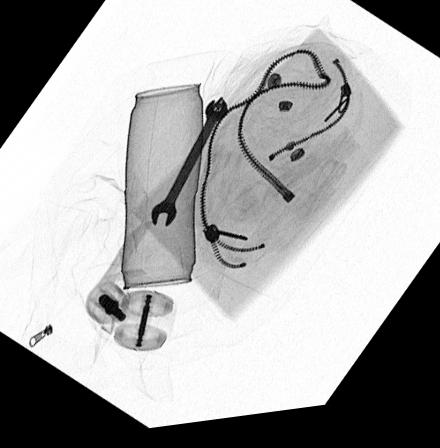Wrench: (147, 102, 228, 235)
